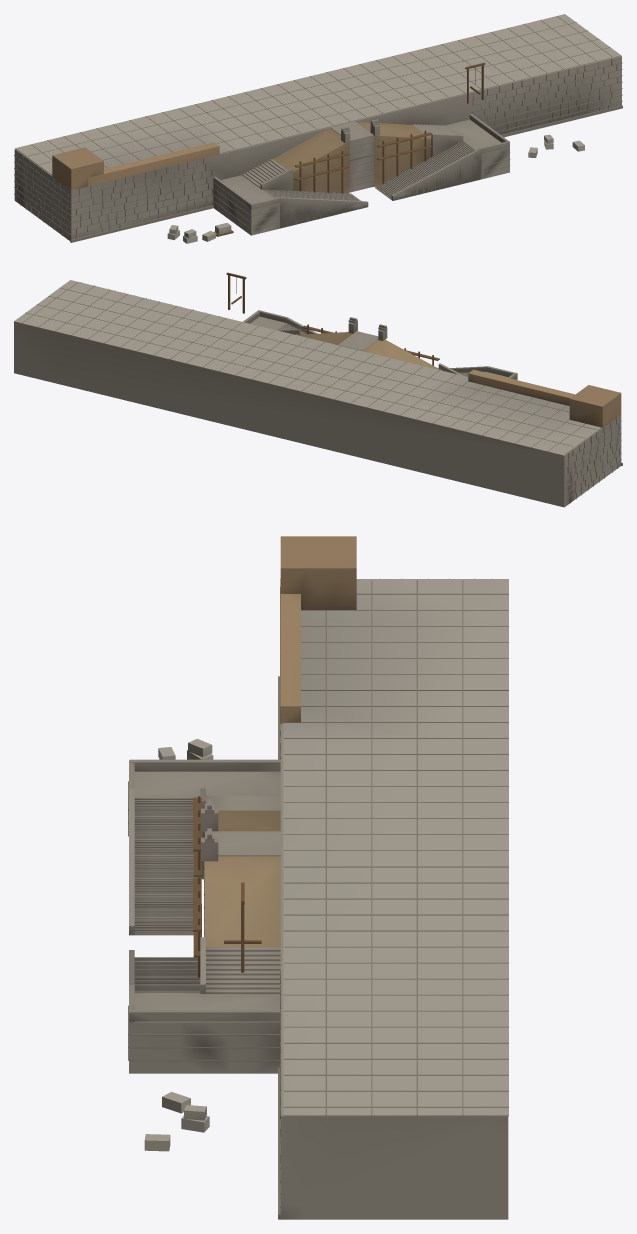
File: takht-500.glb
The picture shows the model from 3 angles, top to bottom: view 1: azimuth 30°, elevation 25°; view 2: azimuth 150°, elevation 25°; view 3: azimuth 270°, elevation 25°; orthographic projection. The views are drawn at different scales.
Visible parts, largest first — view 1: p0_terrace, p1_fortification; view 2: p0_terrace, p1_fortification; view 3: p0_terrace, p1_fortification.
Part boxes in pixels (x1=…): p0_terrace: x1=14, y1=14, x2=622, y2=242; p1_fortification: x1=52, y1=62, x2=584, y2=243; p0_terrace: x1=14, y1=280, x2=622, y2=507; p1_fortification: x1=226, y1=272, x2=621, y2=428; p0_terrace: x1=128, y1=578, x2=508, y2=1219; p1_fortification: x1=144, y1=536, x2=356, y2=1151.
Size of the model in its own units: 134 by 20.45 by 40.15.
